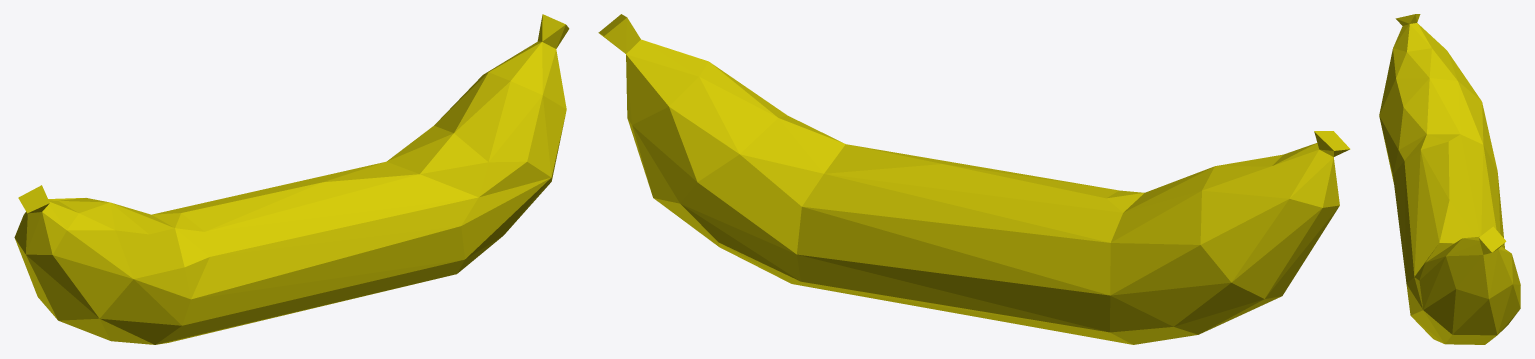
The model's file is muz.fbx.
3 renders of one model, left to right at view 1: azimuth 30°, elevation 25°; view 2: azimuth 150°, elevation 25°; view 3: azimuth 270°, elevation 25°, orthographic. The views are drawn at different scales.
Visible parts, largest first — view 1: Cylinder; view 2: Cylinder; view 3: Cylinder.
Boxes of the visible parts, box(x1,y1,x2,y2) form: Cylinder: box(14, 14, 569, 344); Cylinder: box(598, 14, 1350, 344); Cylinder: box(1379, 14, 1520, 344).
Size of the model in its own units: 67.22 by 22.38 by 17.33.
